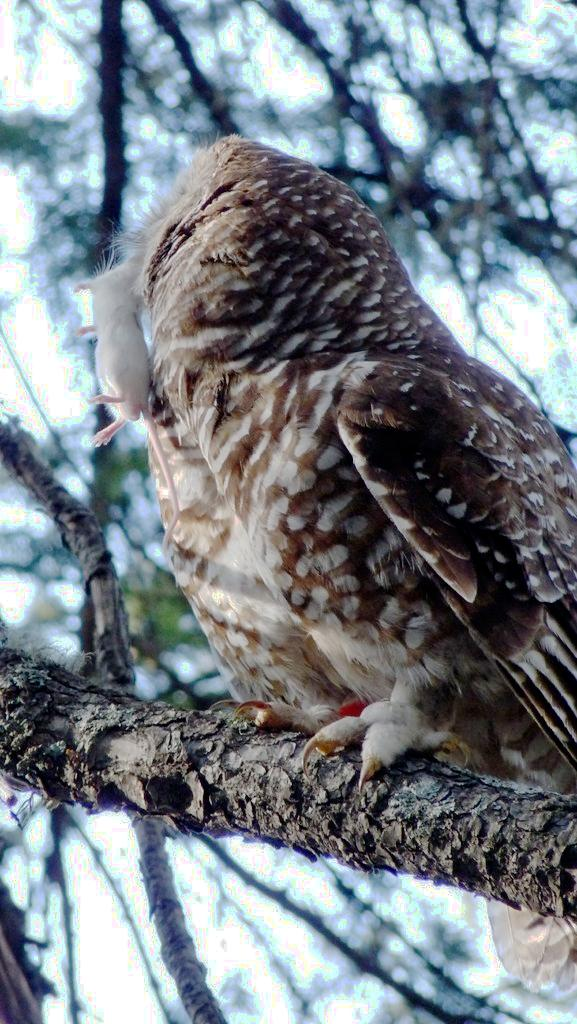Owl: (116, 132, 576, 1000)
